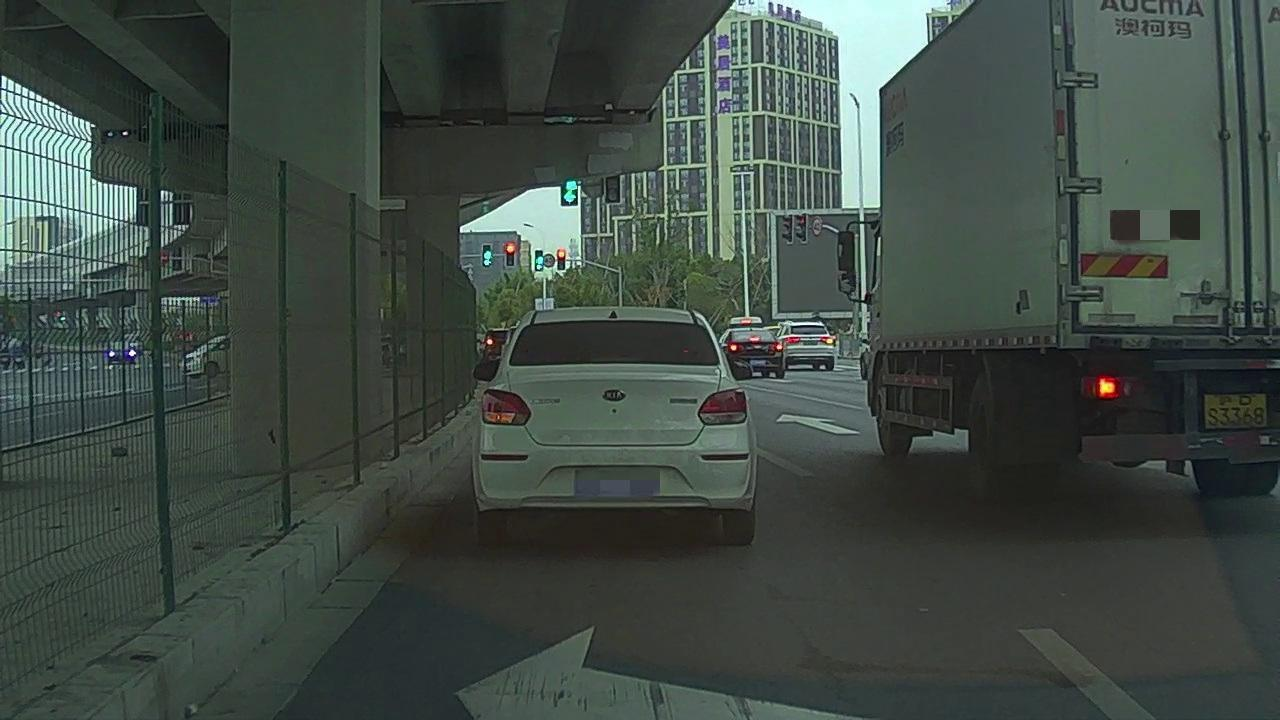traffic_light: (604, 178, 620, 204), (563, 181, 576, 204), (556, 249, 565, 272), (533, 252, 543, 272), (482, 244, 490, 266), (507, 245, 514, 264)
